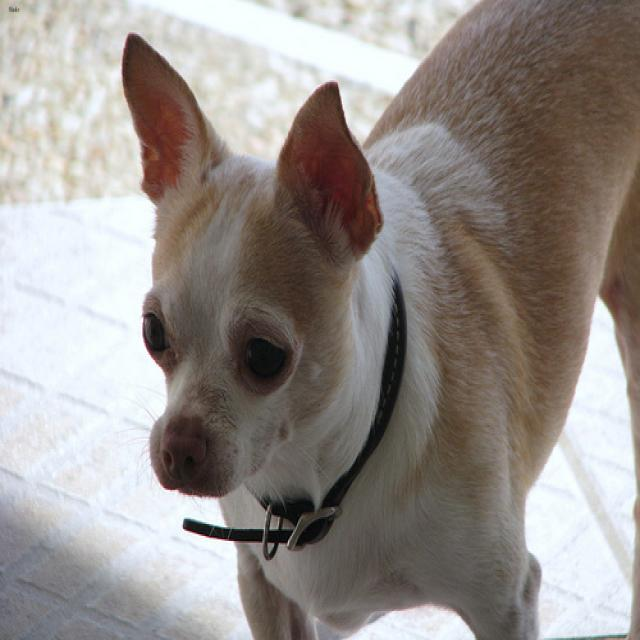dog-chihuahua: (109, 2, 637, 637)
